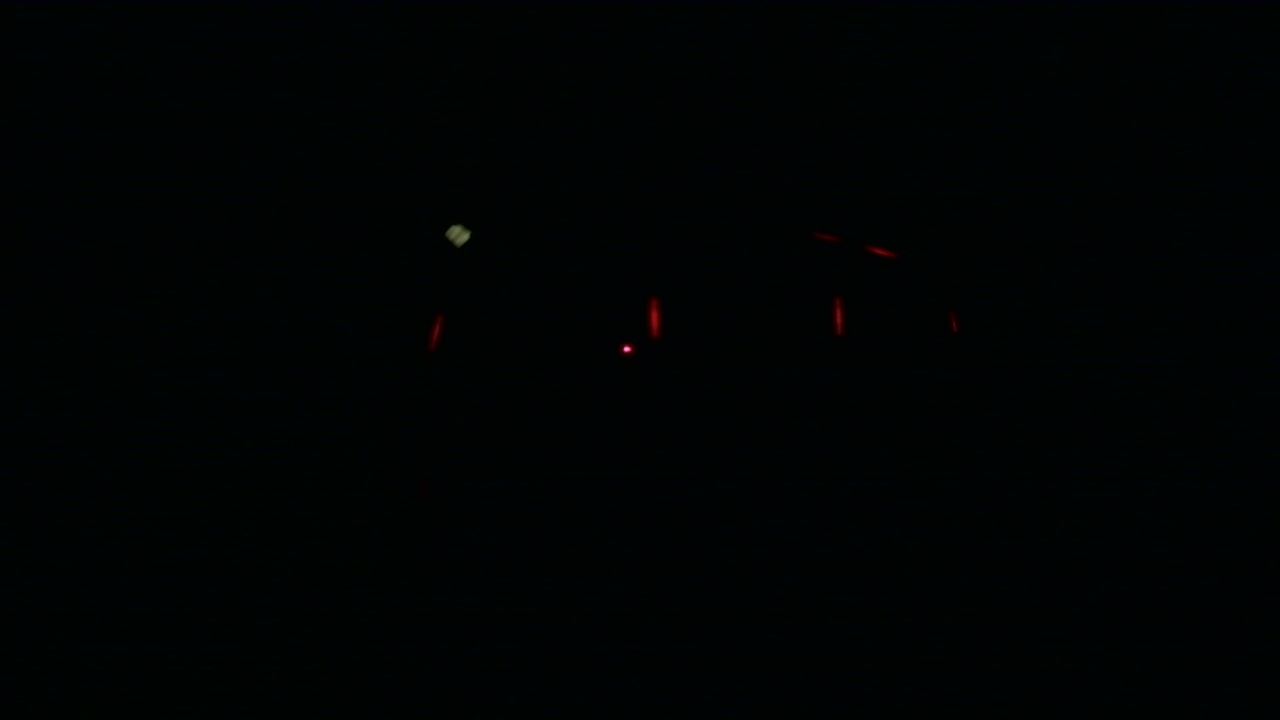lamp: (427, 292, 439, 350), (646, 296, 661, 339), (834, 293, 848, 335)
notpair2: (429, 296, 669, 350)
pair2: (645, 295, 847, 340)
